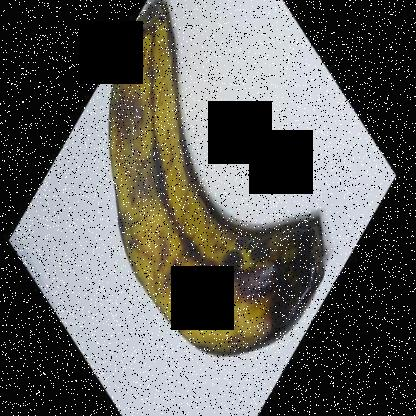overripe: (93, 1, 336, 369)
rotten: (244, 209, 342, 341)
